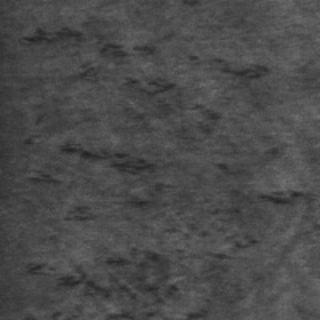rolled pit: (38, 42, 264, 250), (22, 185, 304, 308)
